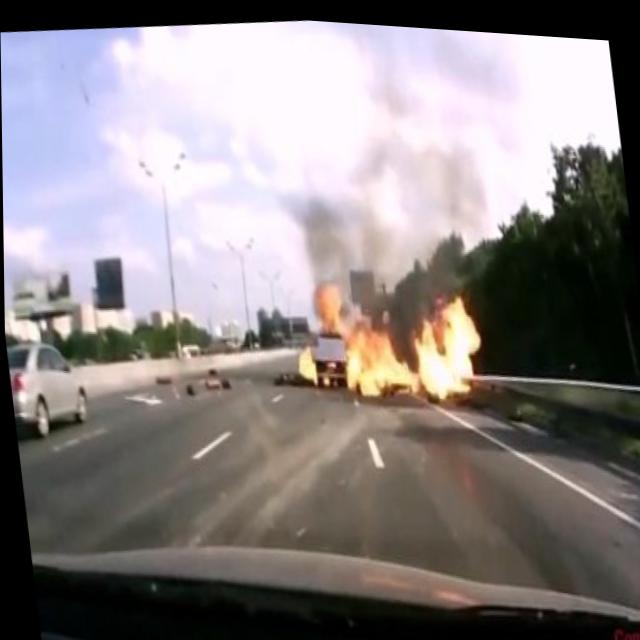fire: (309, 249, 490, 406), (291, 330, 319, 386)
